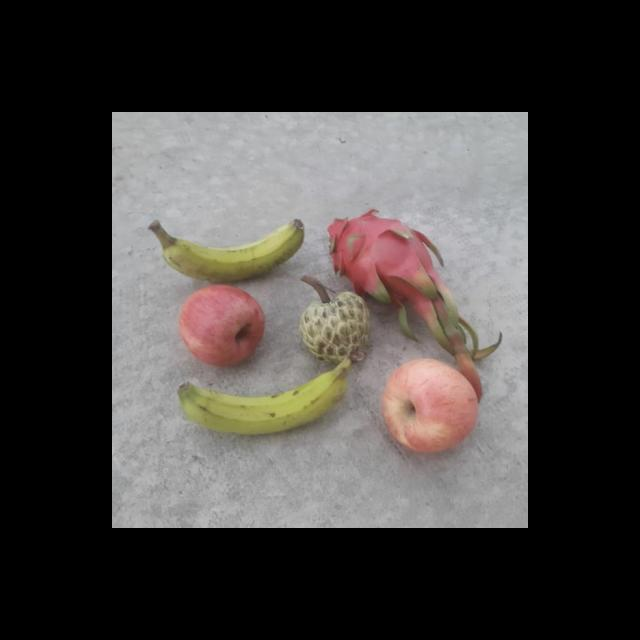Sakya fruit: (299, 288, 370, 362)
apple: (376, 356, 480, 459), (177, 282, 267, 372)
banana: (172, 351, 360, 435), (147, 218, 309, 284)
pitaya: (325, 204, 444, 311)
